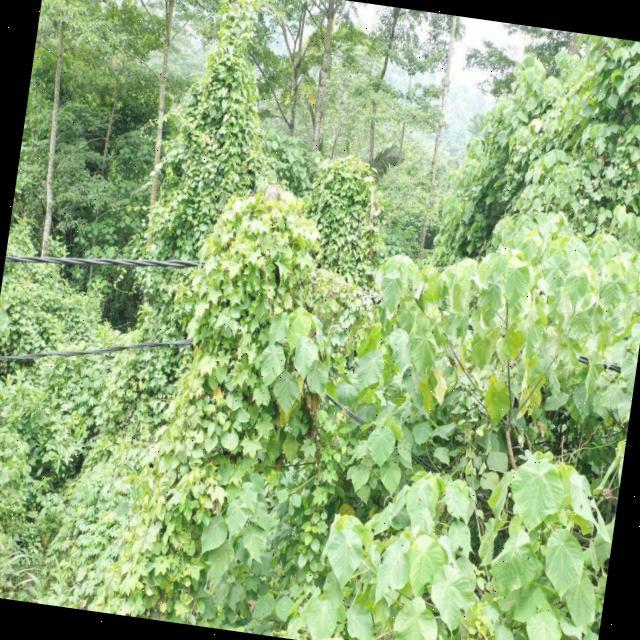critical vegetation: (156, 166, 454, 488)
